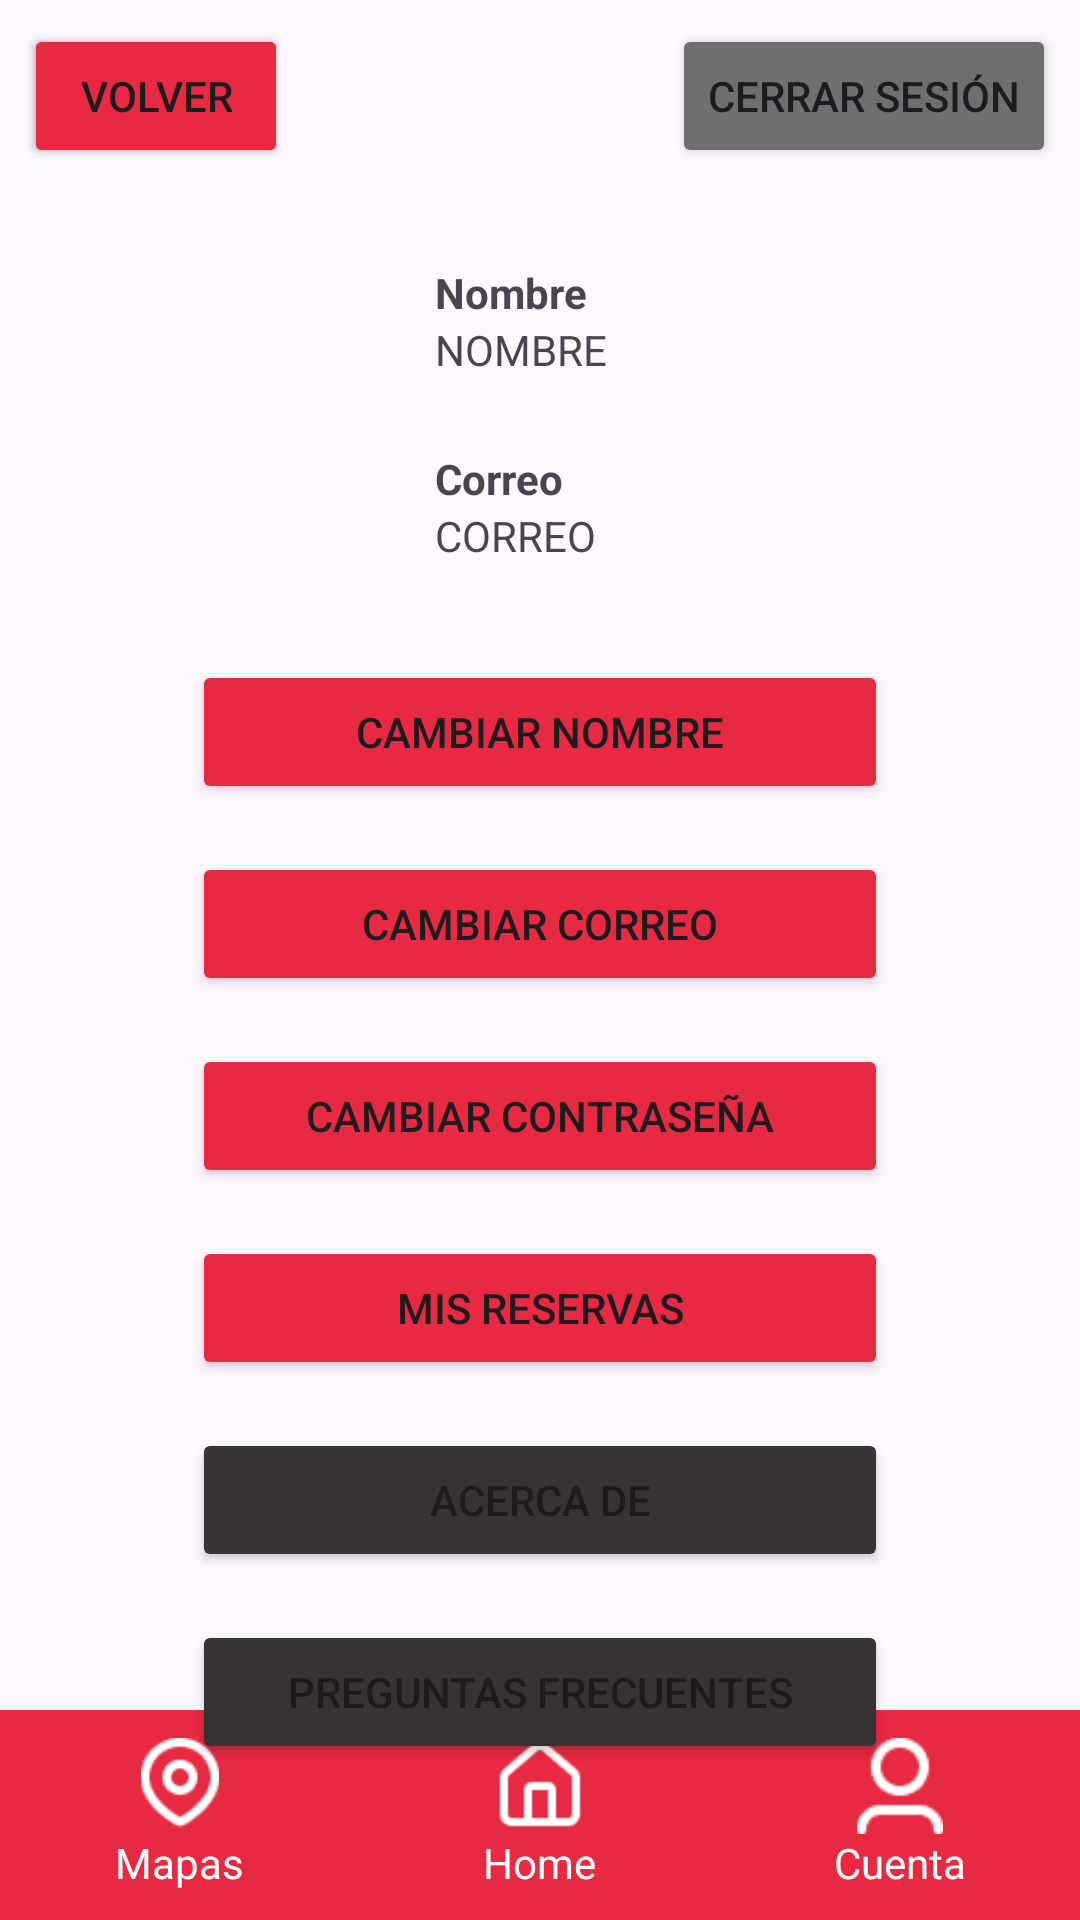

Screen size 1080*1920. Icon name, then its center in pixels as [x,y]:
ubicacion: [184,1783]
